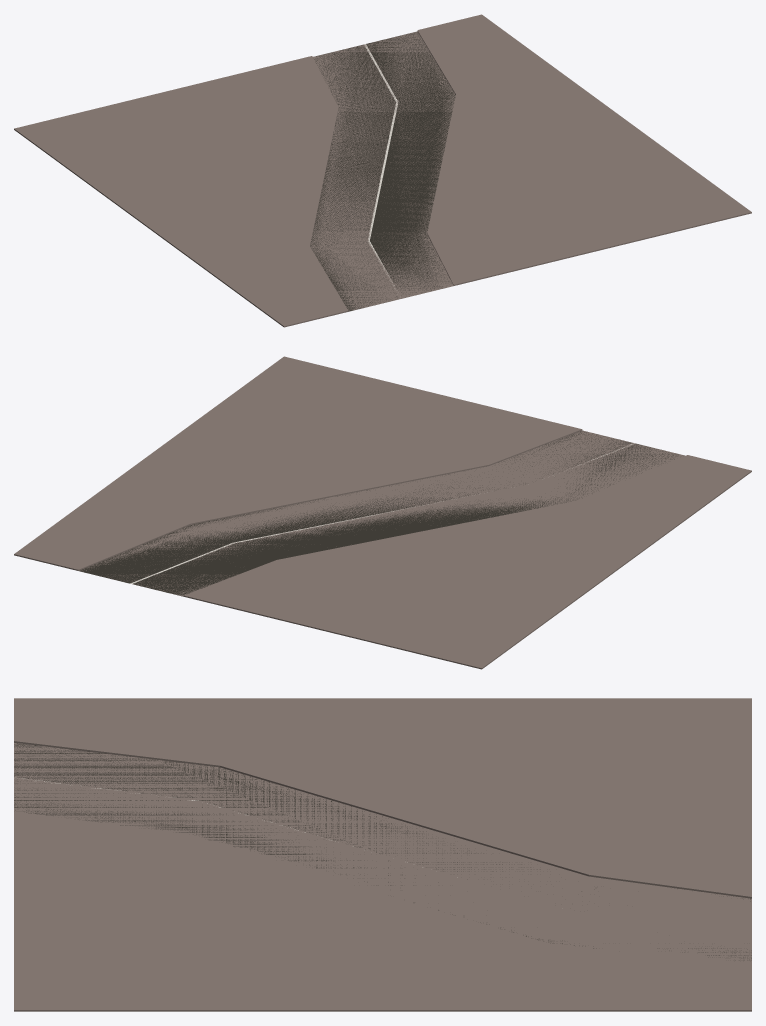
Rendered from Env_1lane_CurveB.fbx.
3 renders of one model, top to bottom at view 1: azimuth 30°, elevation 25°; view 2: azimuth 150°, elevation 25°; view 3: azimuth 270°, elevation 25°, orthographic. The views are drawn at different scales.
Visible parts, largest first — view 1: Env_1lane_CurveB; view 2: Env_1lane_CurveB; view 3: Env_1lane_CurveB.
Part boxes in pixels (x1,y1,x2,y2): Env_1lane_CurveB: (14,14,751,327); Env_1lane_CurveB: (14,356,751,669); Env_1lane_CurveB: (14,698,751,1011).
Bounding box in the file's own units: 4000 × 10 × 4000.
